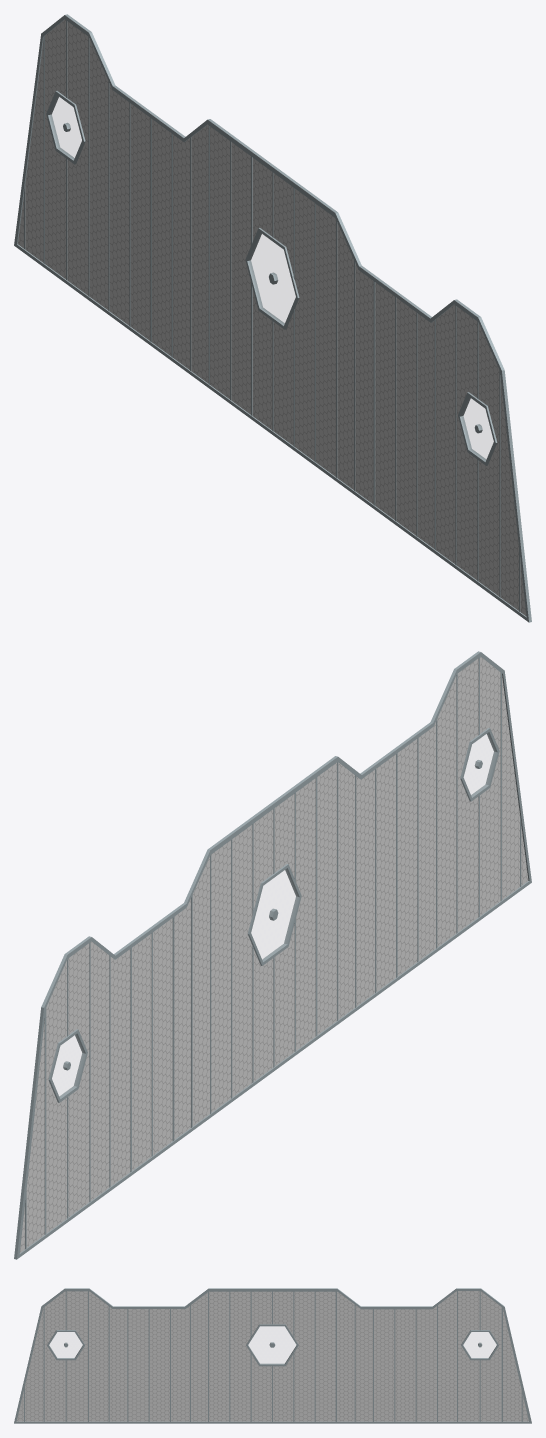
The model's file is Station01WindMetal3.FBX.
3 renders of one model, top to bottom at view 1: azimuth 30°, elevation 25°; view 2: azimuth 150°, elevation 25°; view 3: azimuth 270°, elevation 25°, orthographic. The views are drawn at different scales.
Visible parts, largest first — view 1: Station01WindGlass3, Station01WindMetal3, Station01Window3, Station01WindowMtl3; view 2: Station01WindGlass3, Station01WindMetal3, Station01Window3, Station01WindowMtl3; view 3: Station01WindGlass3, Station01WindMetal3, Station01Window3, Station01WindowMtl3.
Boxes of the visible parts, bbox=[...] form: Station01WindGlass3: bbox=[18, 19, 526, 616]; Station01WindMetal3: bbox=[14, 14, 531, 622]; Station01Window3: bbox=[50, 97, 493, 459]; Station01WindowMtl3: bbox=[46, 91, 497, 465]; Station01WindGlass3: bbox=[20, 656, 528, 1252]; Station01WindMetal3: bbox=[14, 651, 531, 1259]; Station01Window3: bbox=[52, 733, 494, 1096]; Station01WindowMtl3: bbox=[48, 728, 499, 1102]; Station01WindGlass3: bbox=[16, 1291, 528, 1421]; Station01WindMetal3: bbox=[14, 1288, 531, 1423]; Station01Window3: bbox=[49, 1327, 496, 1363]; Station01WindowMtl3: bbox=[47, 1324, 499, 1366].
Bounding box in the file's own units: 150 × 10116 × 35270.
